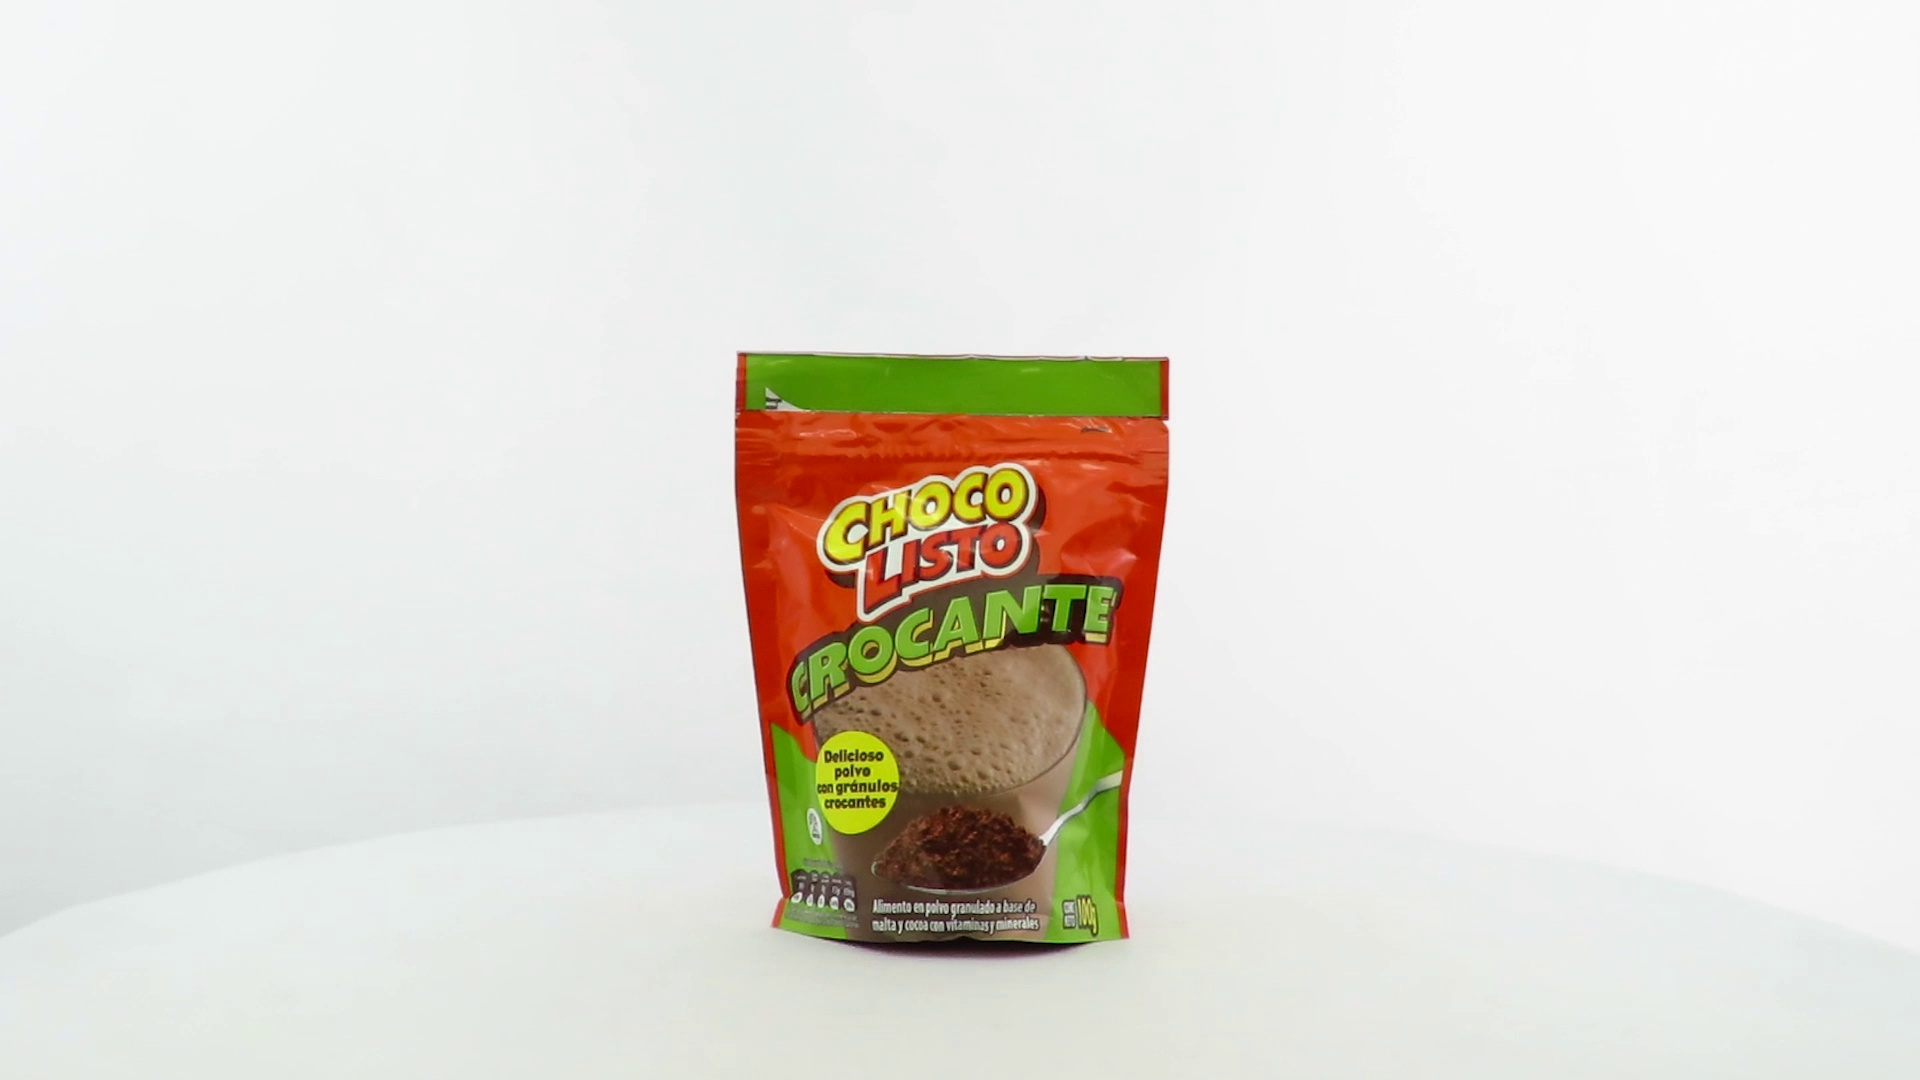COL0170102DYP10000: (729, 345, 1176, 965)
